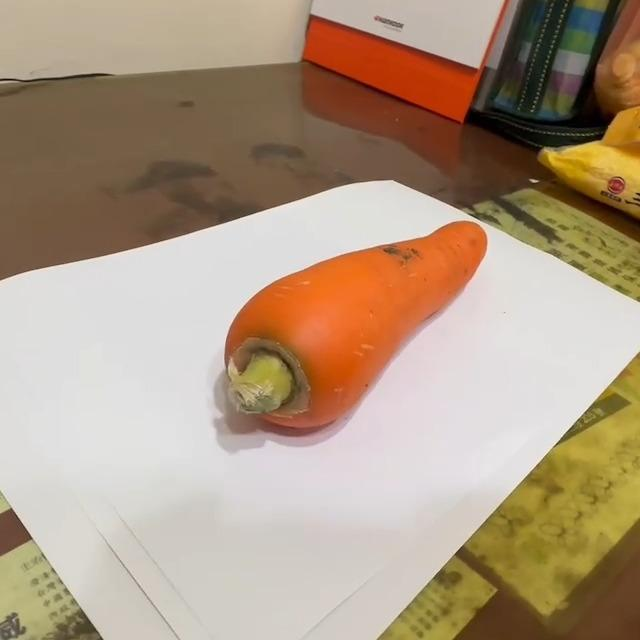carrot: (218, 218, 490, 435)
